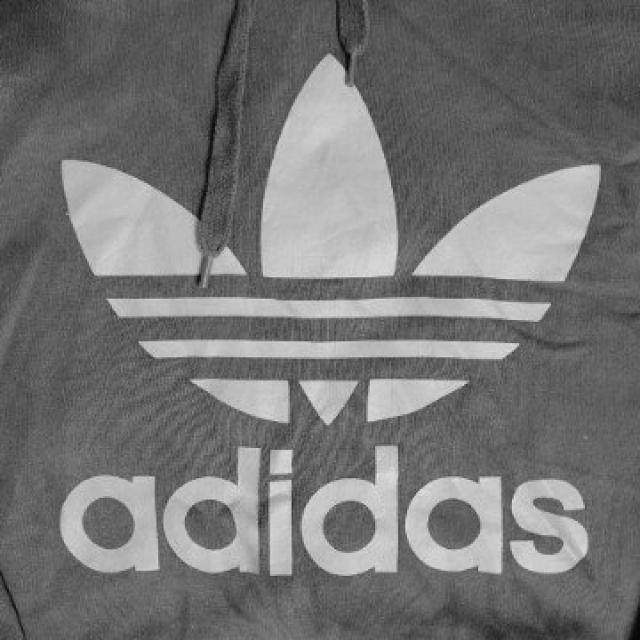Adidas: (37, 30, 608, 434)
